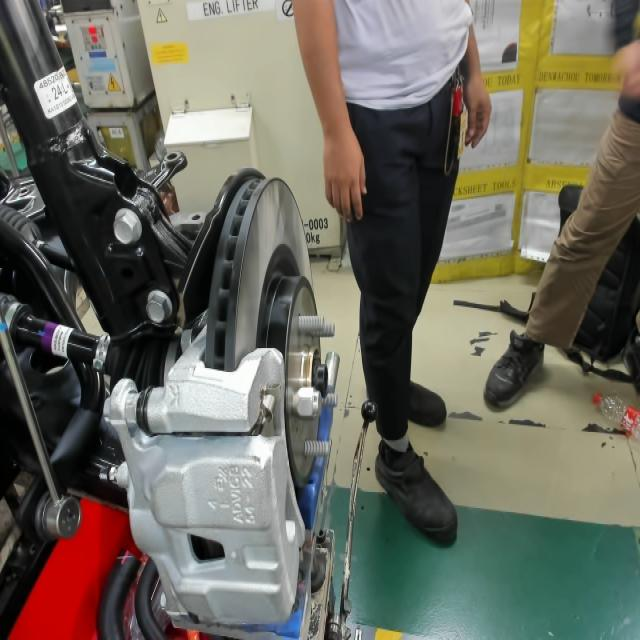Absorber LH-24: (44, 79, 75, 105)
Disc-HT: (249, 239, 328, 516)
Drive Shaft-UG: (40, 317, 77, 364)
